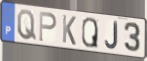3: (123, 22, 142, 54)
J: (104, 21, 119, 51)
K: (62, 13, 78, 47)
P: (39, 10, 58, 43)
Q: (16, 9, 38, 42), (81, 16, 99, 49)
